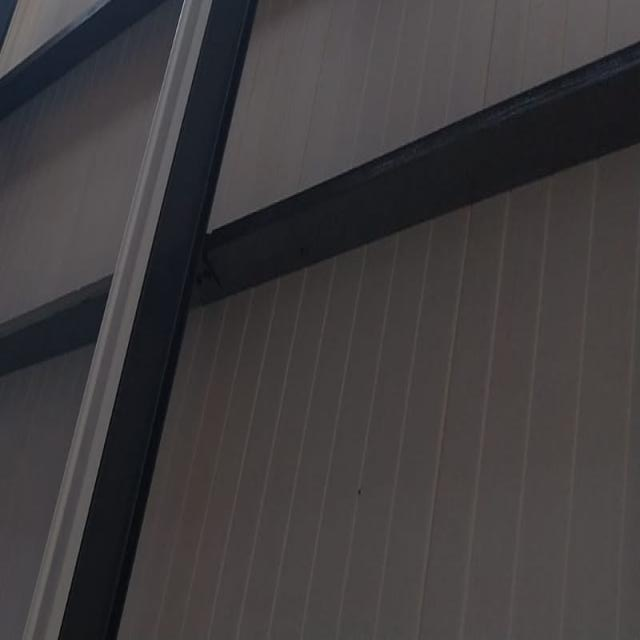fluorescent tube: (12, 0, 238, 640)
